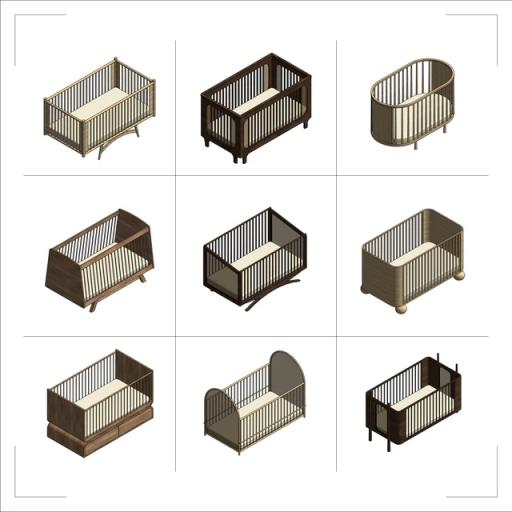crib: (201, 54, 311, 163), (44, 58, 155, 159), (48, 350, 153, 456), (46, 210, 153, 311), (361, 209, 464, 313), (204, 208, 307, 310), (204, 352, 305, 454), (366, 354, 461, 451), (371, 59, 454, 148)
